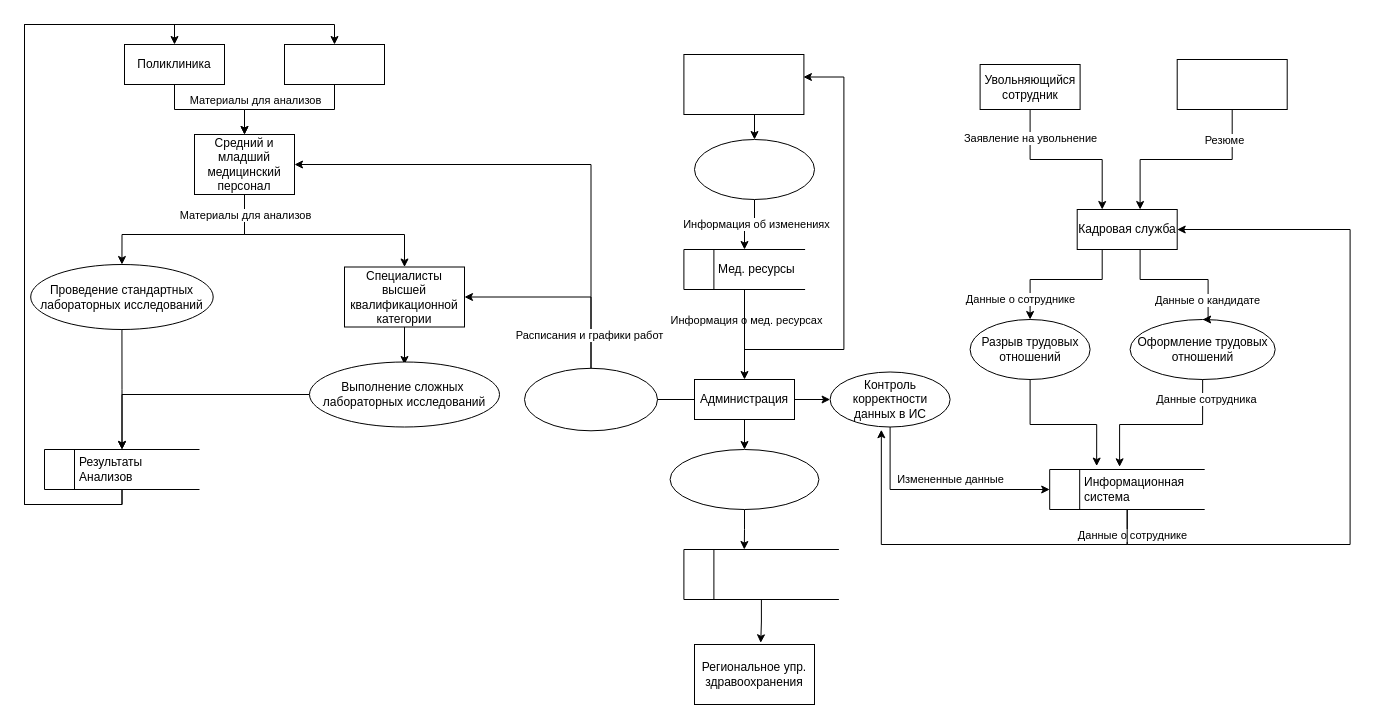
This 1376x722 diagram has some shape labels left out. Each missing label, with the box of its shape:
Больница: (284, 44, 384, 84)
Заявки на пополнение мед. рес.: (683, 548, 839, 600)
Кандидат на должность: (1176, 58, 1287, 110)
Согласование расписаний и графиков работ: (524, 367, 658, 431)
Учет мед. ресурсов: (694, 138, 814, 200)
Финансово- экономический отдел: (683, 54, 804, 114)
Формирование заявки на пополнение мед. рес.: (669, 448, 819, 510)
